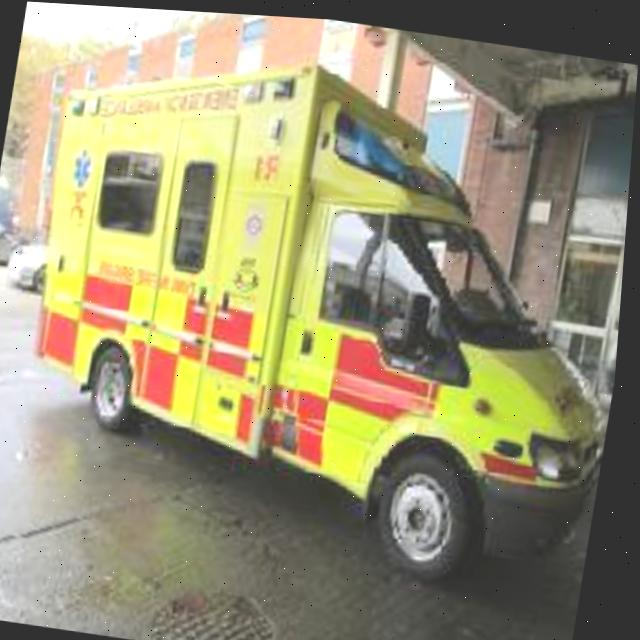emergency: (0, 41, 638, 557)
